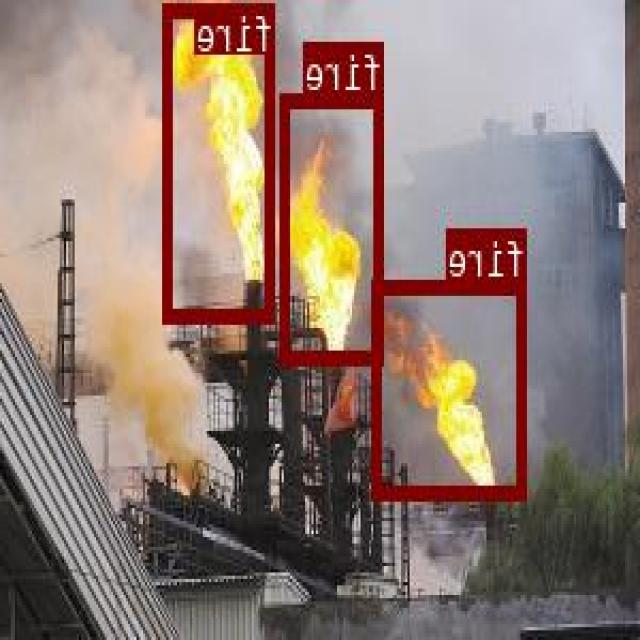fire: (166, 1, 277, 319), (375, 278, 529, 498), (282, 93, 385, 363)
